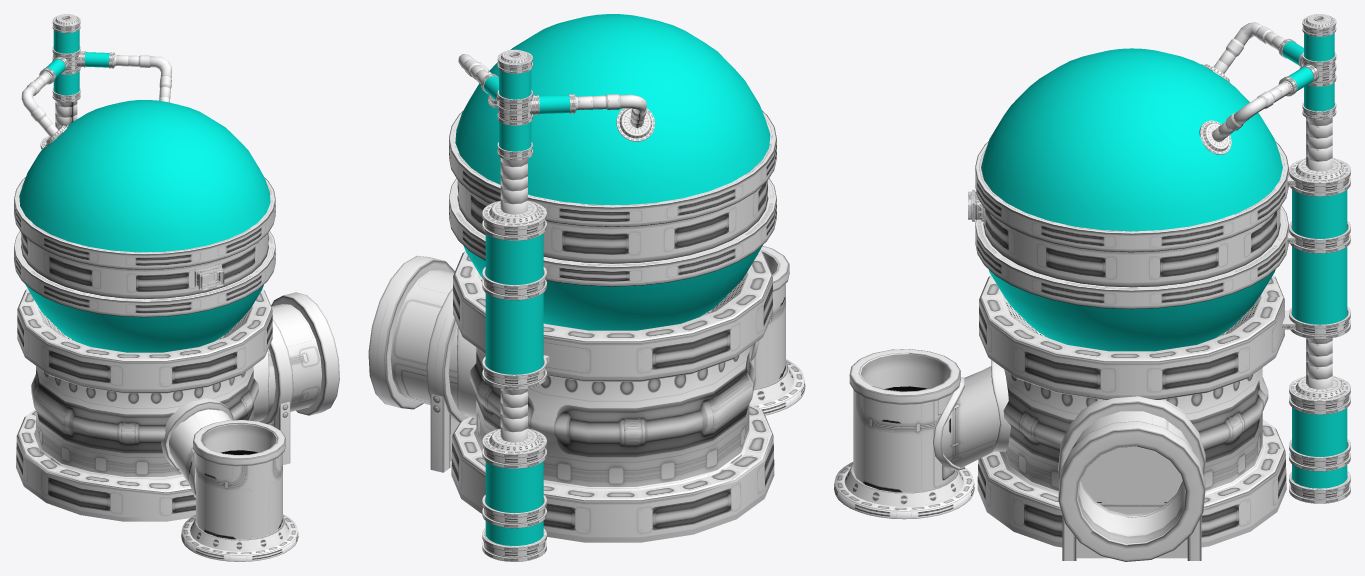
The model's file is Washer_VF.FBX.
3 views of the same model, side by side, from view 1: azimuth 30°, elevation 25°; view 2: azimuth 150°, elevation 25°; view 3: azimuth 270°, elevation 25° (orthographic). The views are drawn at different scales.
Parts seen in each view (by area): view 1: Washer_Body, Washer_Glass; view 2: Washer_Body, Washer_Glass; view 3: Washer_Body, Washer_Glass, Washer_Door.
Part boxes in pixels (box(x1,y1,x2,y2)): Washer_Body: box(14, 14, 339, 561); Washer_Glass: box(19, 100, 270, 352); Washer_Body: box(368, 49, 805, 561); Washer_Glass: box(455, 14, 770, 330); Washer_Body: box(834, 14, 1350, 561); Washer_Glass: box(981, 48, 1282, 351); Washer_Door: box(1076, 446, 1187, 558).
Size of the model in its own units: 158 by 222 by 212.
